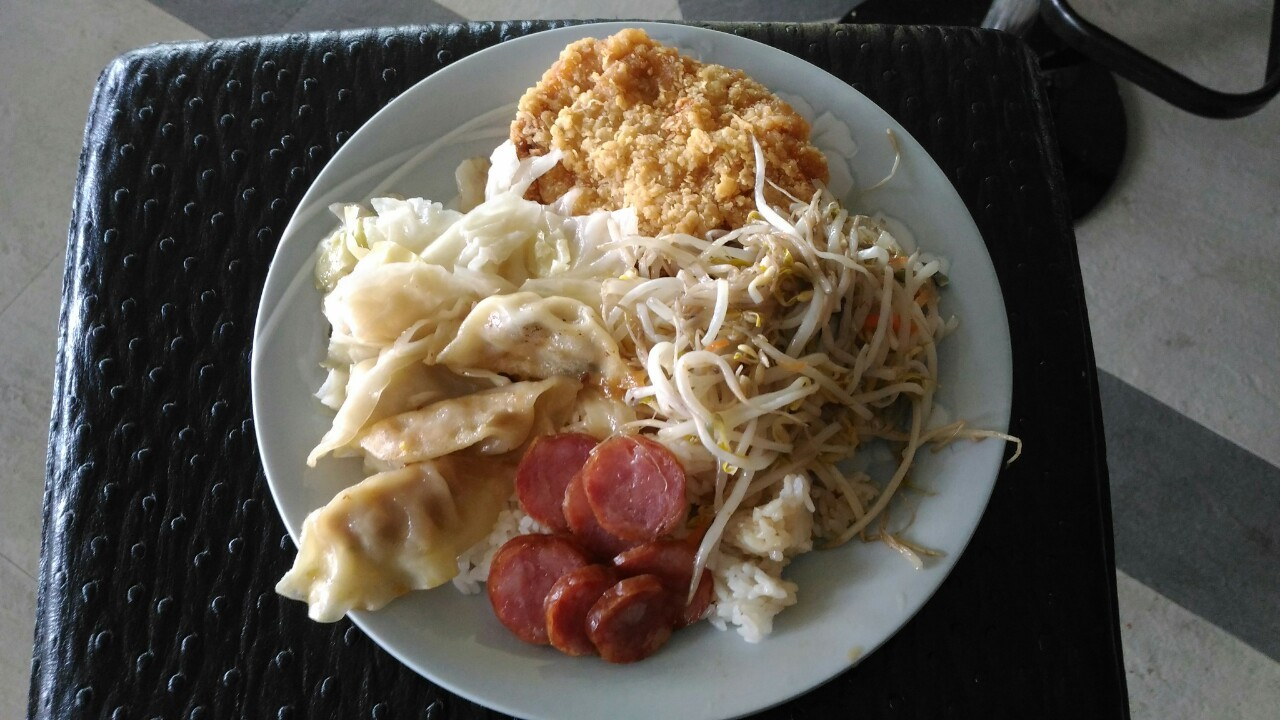chinese_cabbage: (316, 183, 595, 293)
chinese_sausage: (483, 434, 705, 665)
fried_chicken: (509, 31, 833, 214)
fried_dumplings: (282, 295, 609, 627)
mung_bean_sprouts: (674, 233, 923, 437)
rice: (698, 479, 839, 652)
